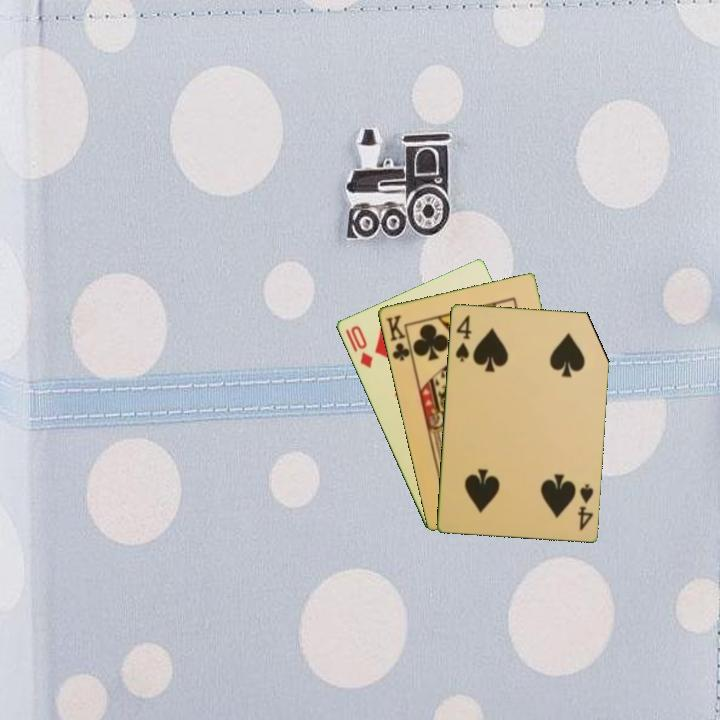10d: (341, 322, 376, 371)
4s: (452, 311, 474, 365), (574, 480, 596, 533)
Kc: (382, 311, 415, 364)
